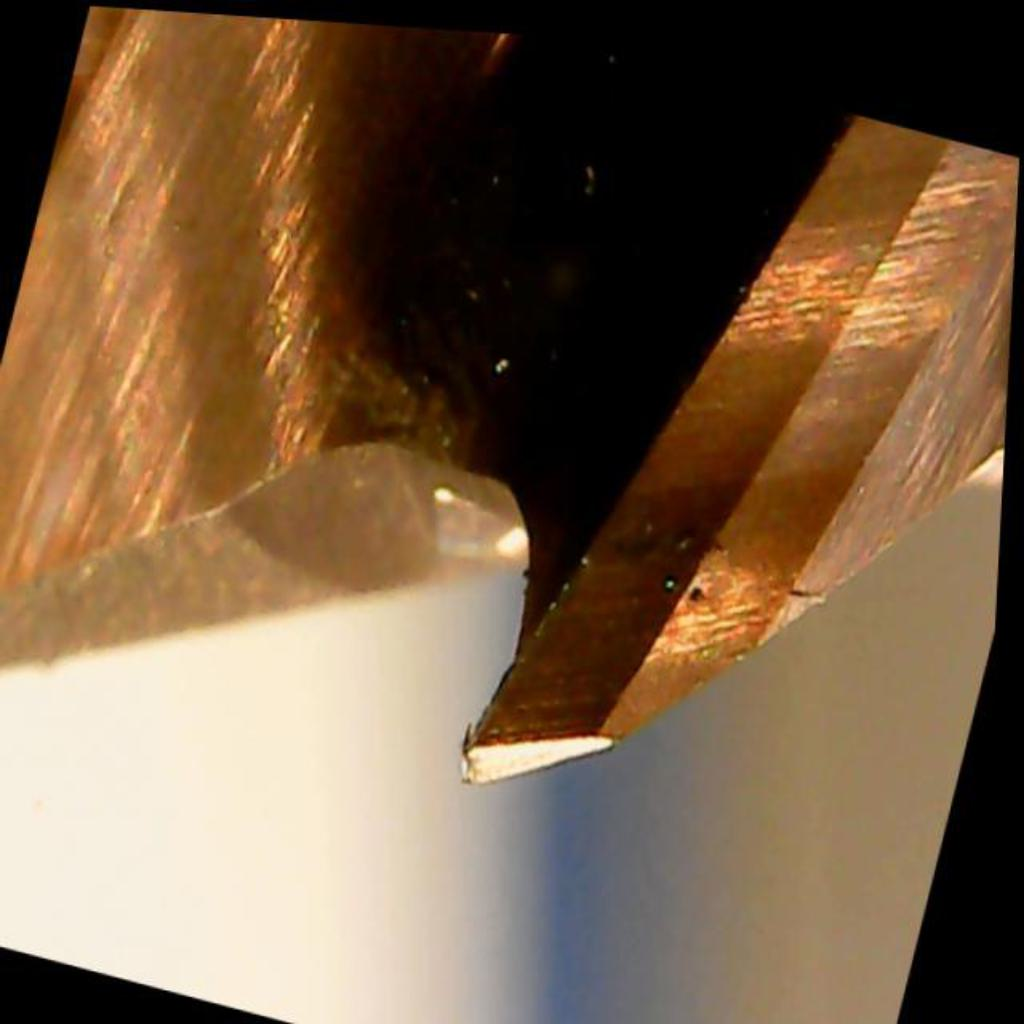Tool-wear-class-1: (382, 439, 758, 849)
